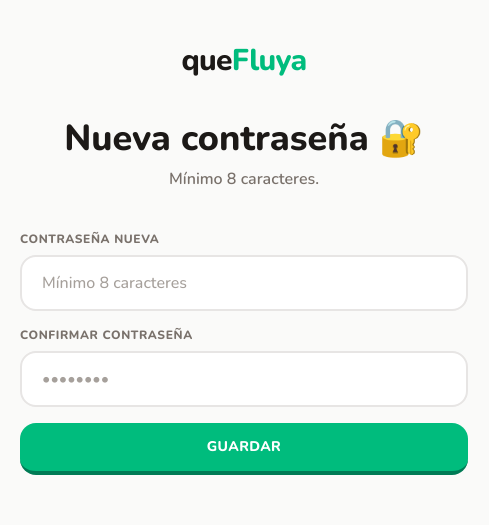
<ResetPasswordPage /> › rejects passwords shorter than 8 characters
In the password field labelled "Contraseña nueva": (244, 283) [20,255,468,311], type "short"
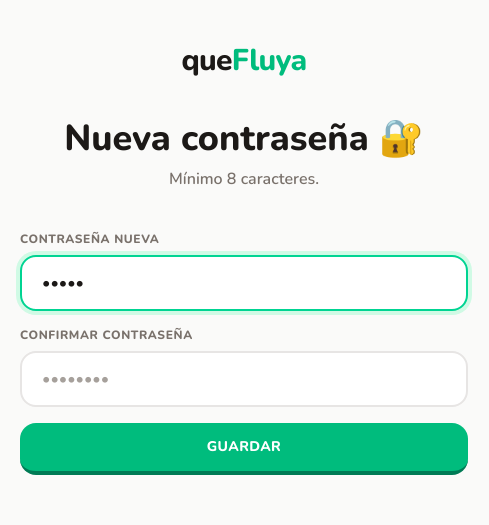
In the password field labelled "Confirmar contraseña": (244, 379) [20,351,468,407], type "short"
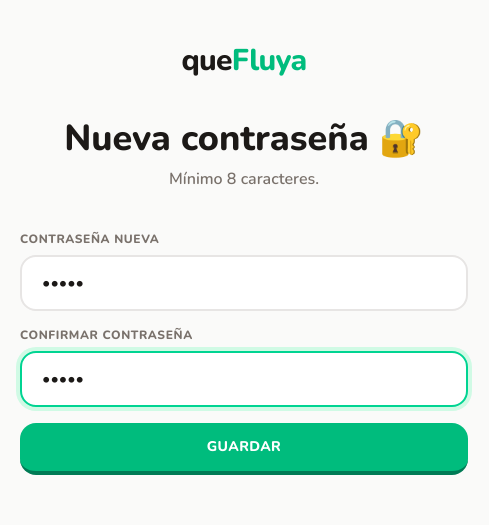
Click the button "Guardar": (244, 449) [20,423,468,475]
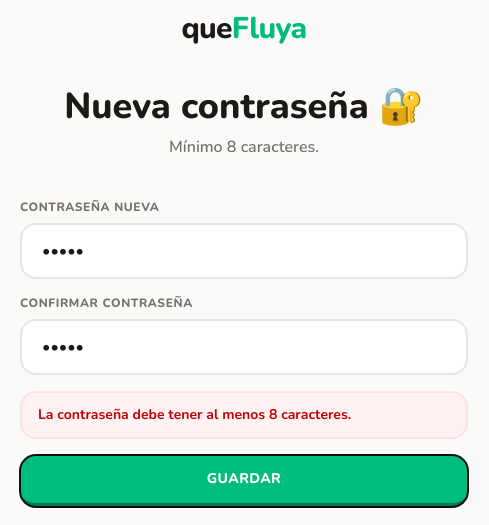
Result: the text "La contraseña debe tener al menos 8 caracteres." is shown at [20,391,468,439]
